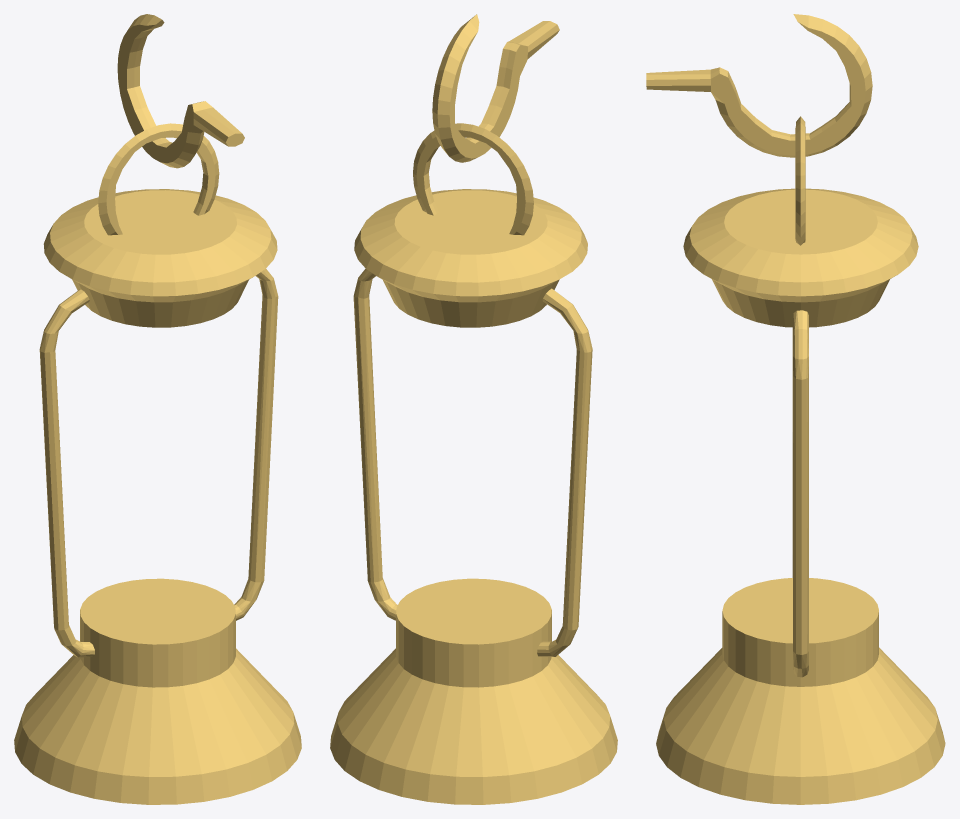
The model's file is mineLamp.glb.
3 renders of one model, left to right at view 1: azimuth 30°, elevation 25°; view 2: azimuth 150°, elevation 25°; view 3: azimuth 270°, elevation 25°, orthographic.
Visible parts, largest first — view 1: Cylinder; view 2: Cylinder; view 3: Cylinder.
Part boxes in pixels (x1,y1,x2,y2): Cylinder: [14, 14, 301, 804]; Cylinder: [330, 14, 617, 804]; Cylinder: [646, 14, 945, 804].
Size of the model in its own units: 1.35 by 3.75 by 1.39.
